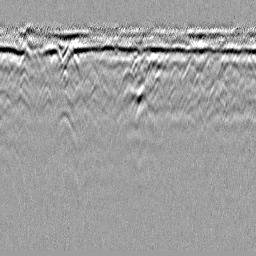cavity: (118, 65, 139, 91)
